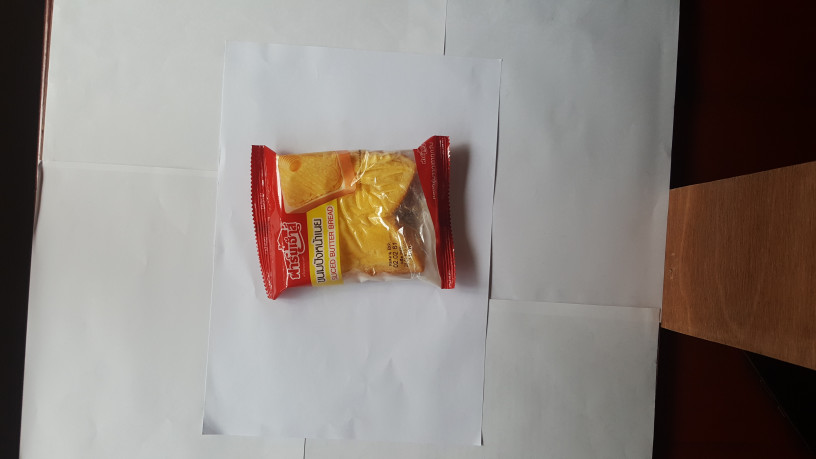farmhouse-bread-butter: (246, 136, 461, 306)
